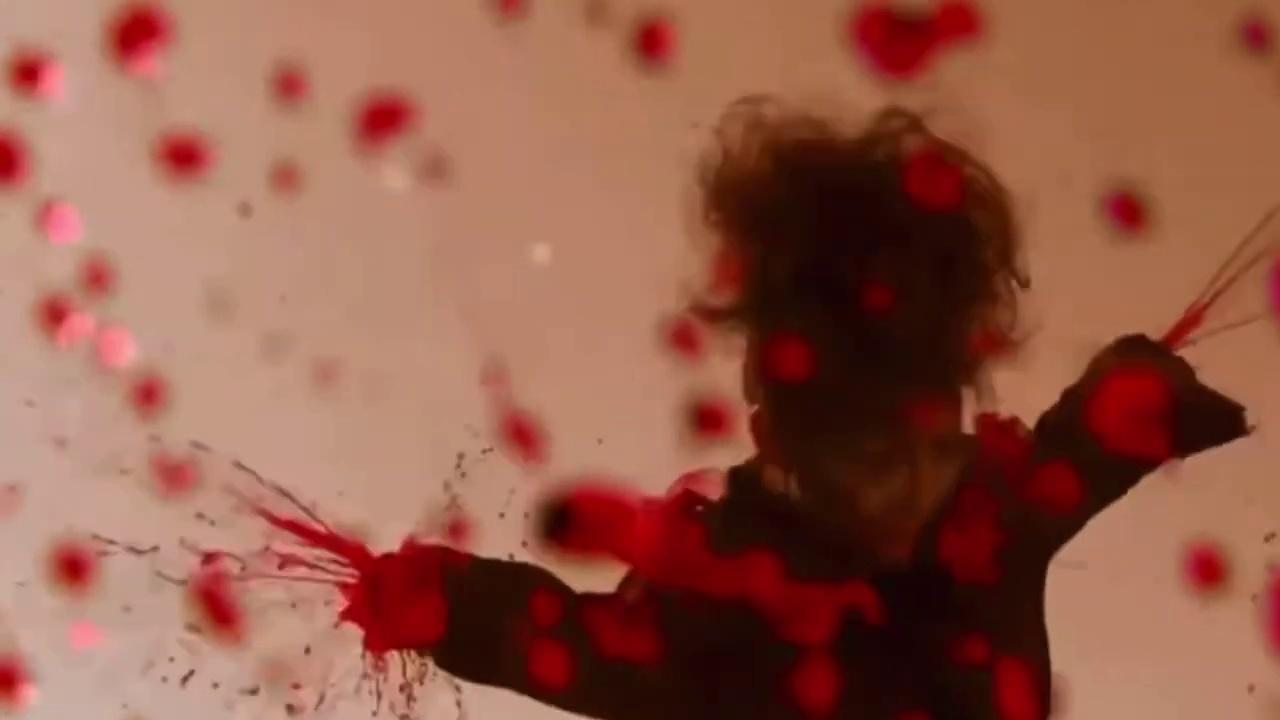Fire: (182, 95, 1280, 718), (33, 398, 458, 718), (29, 252, 173, 424), (1162, 201, 1280, 350), (1164, 203, 1280, 348), (843, 0, 989, 80), (850, 0, 986, 78), (32, 290, 135, 368), (33, 291, 134, 368), (480, 355, 550, 466), (481, 356, 550, 466), (104, 2, 175, 78), (105, 1, 174, 76), (351, 87, 420, 154), (149, 125, 220, 182), (626, 5, 683, 74), (1099, 178, 1162, 240), (1183, 536, 1240, 600), (151, 127, 217, 182), (354, 90, 415, 146), (660, 301, 712, 364), (5, 46, 64, 100), (1233, 7, 1280, 74), (682, 390, 740, 444), (1253, 558, 1280, 662), (662, 303, 709, 362), (685, 393, 739, 442), (7, 48, 61, 96), (31, 196, 84, 244), (0, 125, 36, 188), (73, 249, 117, 300), (267, 59, 312, 108), (0, 653, 34, 710), (1106, 192, 1152, 234), (443, 482, 472, 548), (271, 60, 311, 106), (643, 14, 678, 64), (266, 156, 304, 194), (414, 148, 453, 184), (50, 204, 82, 244), (582, 0, 623, 30), (484, 0, 533, 24), (271, 160, 303, 194), (526, 241, 558, 267), (421, 149, 445, 182), (316, 356, 340, 388), (0, 163, 29, 187), (531, 242, 553, 264), (234, 198, 254, 218)
